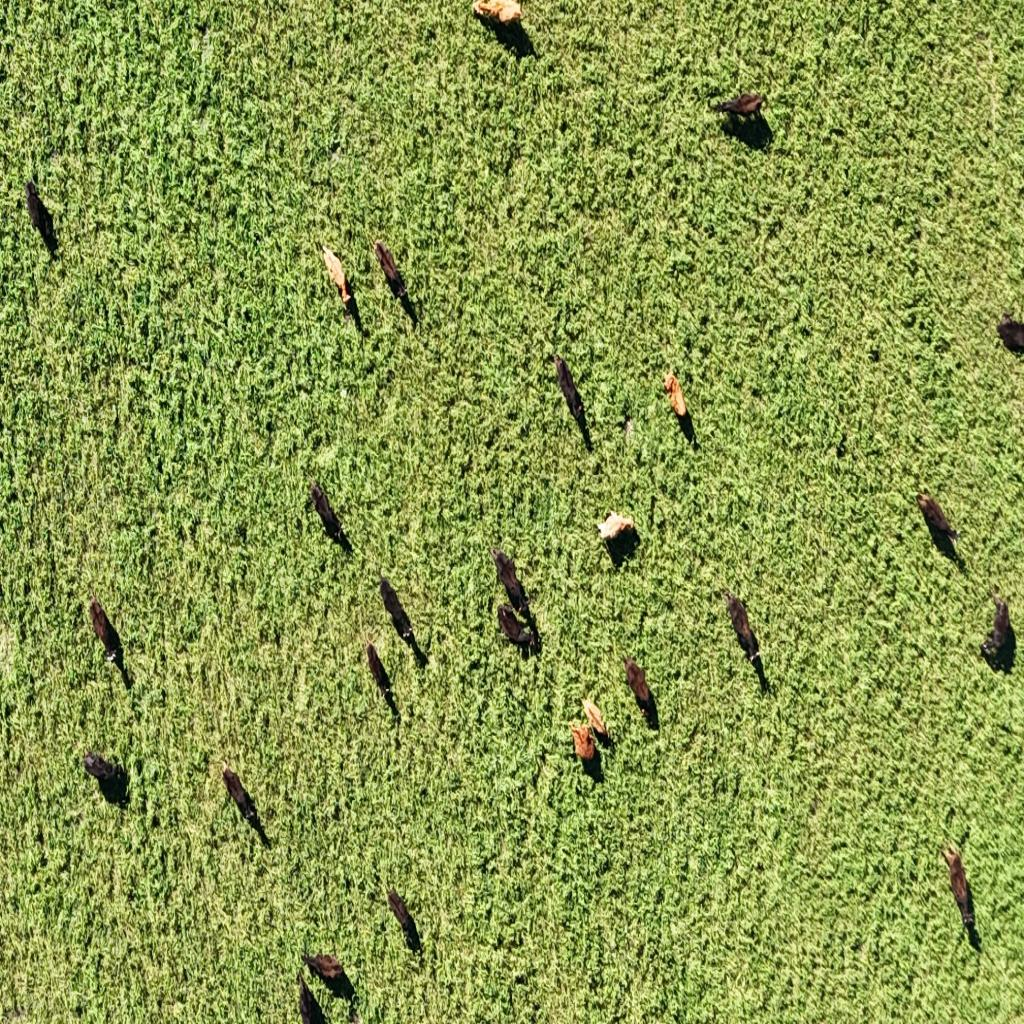cow: (490, 546, 532, 622), (940, 842, 975, 930), (374, 238, 412, 318), (320, 244, 356, 326), (379, 574, 418, 645), (724, 590, 760, 666), (552, 353, 586, 431), (222, 762, 262, 828), (918, 490, 962, 548), (978, 590, 1012, 664), (88, 594, 122, 666), (309, 482, 347, 546), (622, 654, 656, 725), (364, 636, 394, 705), (497, 604, 538, 654), (25, 179, 54, 249), (388, 888, 420, 950), (711, 92, 765, 128), (302, 950, 348, 992), (82, 751, 122, 797), (472, 0, 522, 30), (597, 509, 635, 548), (298, 974, 325, 1024), (662, 368, 688, 418), (568, 720, 597, 764), (995, 312, 1024, 355), (582, 696, 610, 738)
